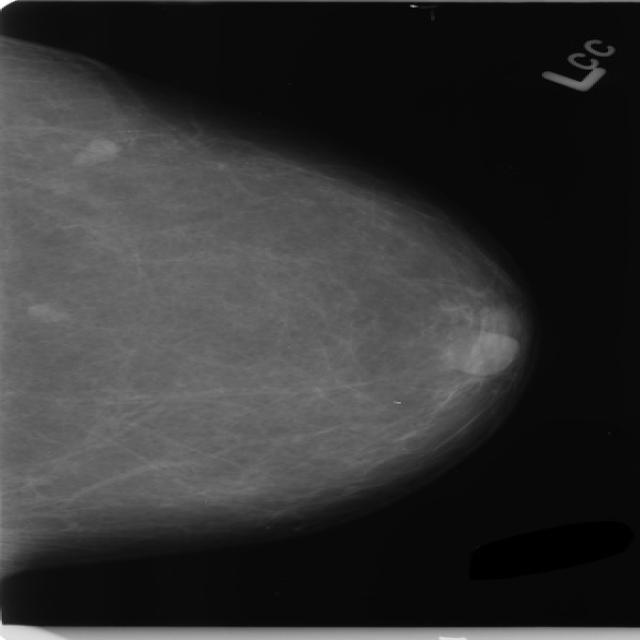tumour: (26, 300, 64, 318)
